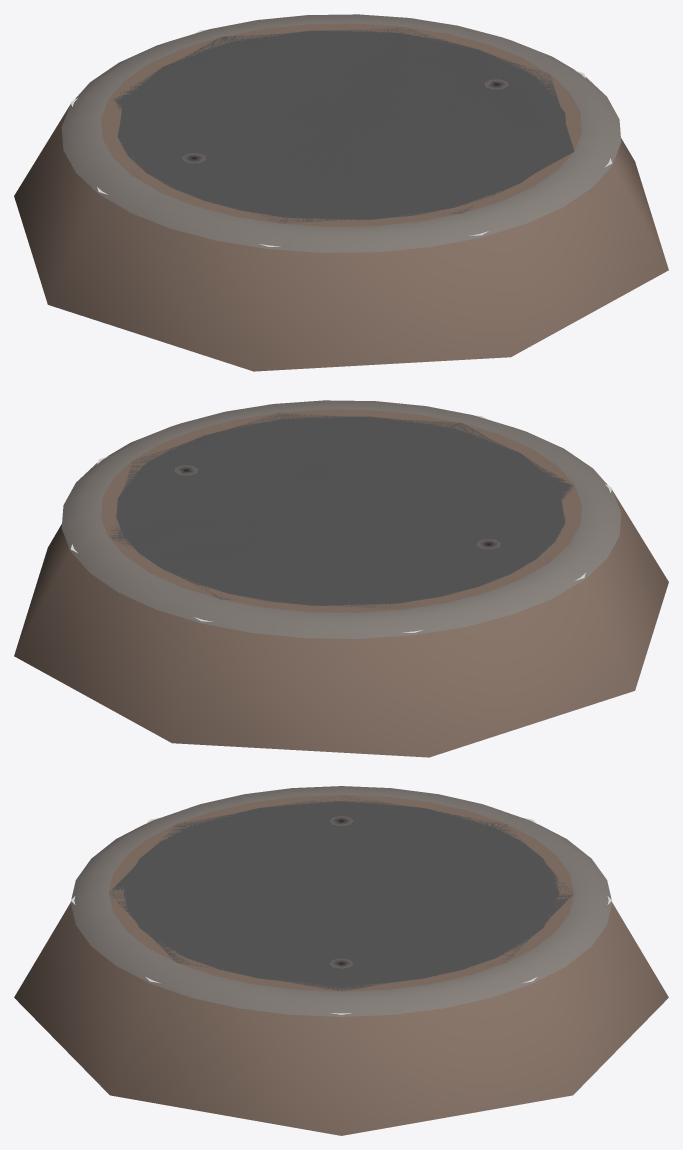
File: s_fuel_manhole_refill.dae
3 views of the same model, one above another, from view 1: azimuth 30°, elevation 25°; view 2: azimuth 150°, elevation 25°; view 3: azimuth 270°, elevation 25° (orthographic). The views are drawn at different scales.
Visible parts, largest first — view 1: Colmesh_s_fuel_manhole_refill-1, s_fuel_manhole_refill_L200, s_fuel_manhole_refill_L120, s_fuel_manhole_refill_L60; view 2: s_fuel_manhole_refill_L200, Colmesh_s_fuel_manhole_refill-1, s_fuel_manhole_refill_L120, s_fuel_manhole_refill_L60; view 3: Colmesh_s_fuel_manhole_refill-1, s_fuel_manhole_refill_L200, s_fuel_manhole_refill_L60, s_fuel_manhole_refill_L120.
Boxes of the visible parts, x1,y1,x2,y2 form: Colmesh_s_fuel_manhole_refill-1: (14,27,668,371); s_fuel_manhole_refill_L200: (61,14,621,252); s_fuel_manhole_refill_L120: (103,24,579,225); s_fuel_manhole_refill_L60: (112,27,574,223); s_fuel_manhole_refill_L200: (61,400,621,638); Colmesh_s_fuel_manhole_refill-1: (14,413,668,757); s_fuel_manhole_refill_L120: (103,410,579,612); s_fuel_manhole_refill_L60: (110,412,573,608); Colmesh_s_fuel_manhole_refill-1: (14,796,668,1135); s_fuel_manhole_refill_L200: (70,786,612,1016); s_fuel_manhole_refill_L60: (109,796,572,991); s_fuel_manhole_refill_L120: (109,795,573,991).
Size of the model in its own units: 0.6452 by 0.6452 by 0.1164.
